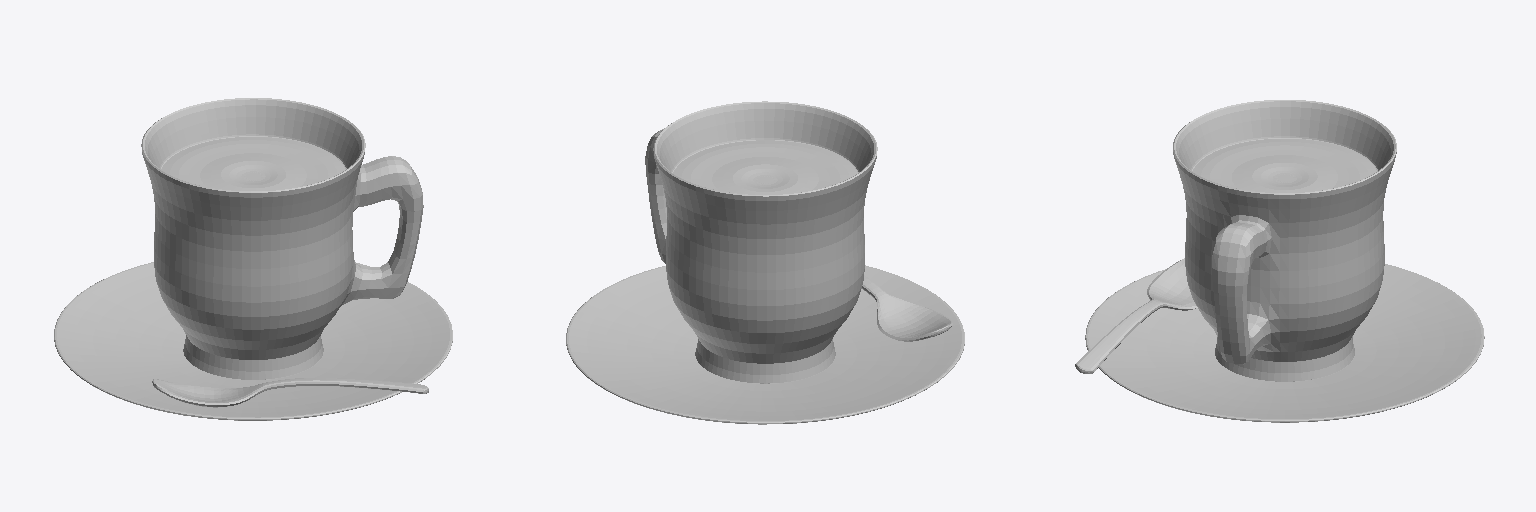
The model's file is Upscale_coffee_OBJ.obj.
The picture shows the model from 3 angles: view 1: azimuth 30°, elevation 25°; view 2: azimuth 150°, elevation 25°; view 3: azimuth 270°, elevation 25°; orthographic projection.
Parts seen in each view (by area): view 1: Coffee_ลูกบาศก์, Gold_ลูกบาศก์.001; view 2: Coffee_ลูกบาศก์, Gold_ลูกบาศก์.001; view 3: Coffee_ลูกบาศก์, Gold_ลูกบาศก์.001.
Boxes of the visible parts, box(x1,y1,x2,y2) form: Coffee_ลูกบาศก์: box(63, 105, 443, 415); Gold_ลูกบาศก์.001: box(54, 98, 452, 420); Coffee_ลูกบาศก์: box(575, 109, 955, 419); Gold_ลูกบาศก์.001: box(566, 101, 964, 424); Coffee_ลูกบาศก์: box(1094, 107, 1475, 417); Gold_ลูกบาศก์.001: box(1075, 100, 1484, 422).
Bounding box in the file's own units: 1.95 × 1.18 × 1.99.